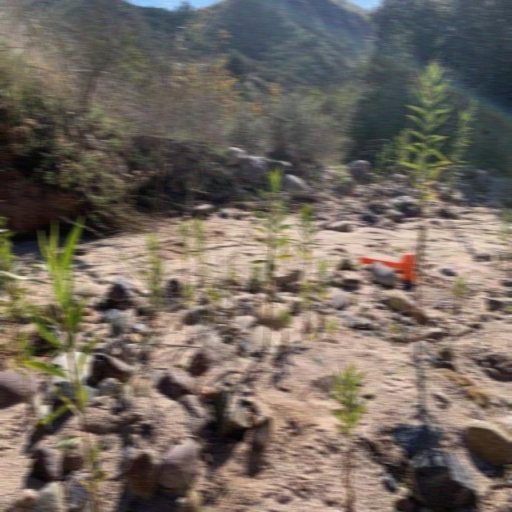mallet: (360, 245, 416, 283)
